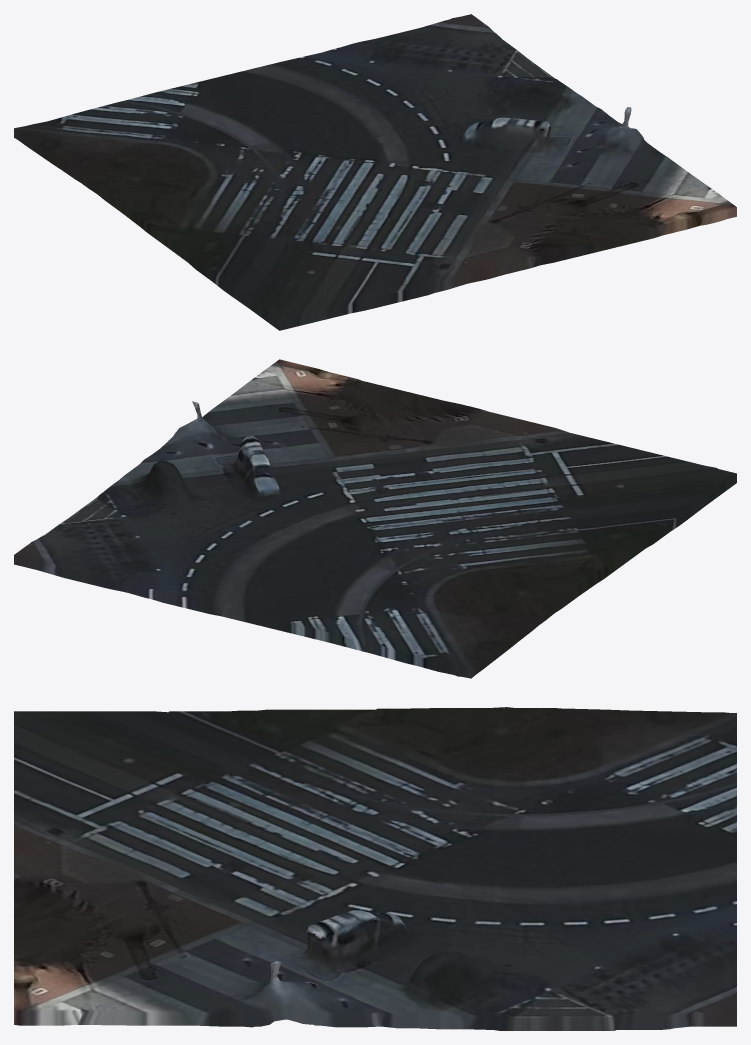
Rendered from z20-167787-405224-h0-yup-uvflip-v3-world.glb.
The picture shows the model from 3 angles, top to bottom: view 1: azimuth 30°, elevation 25°; view 2: azimuth 150°, elevation 25°; view 3: azimuth 270°, elevation 25°; orthographic projection. The views are drawn at different scales.
Size of the model in its own units: 30.16 by 2.88 by 30.32.
1 material, 1 textured.
